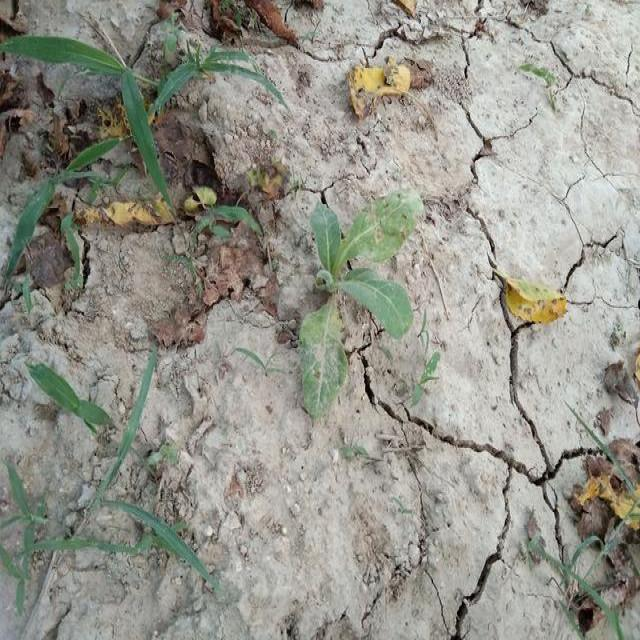crop: (292, 187, 410, 417)
